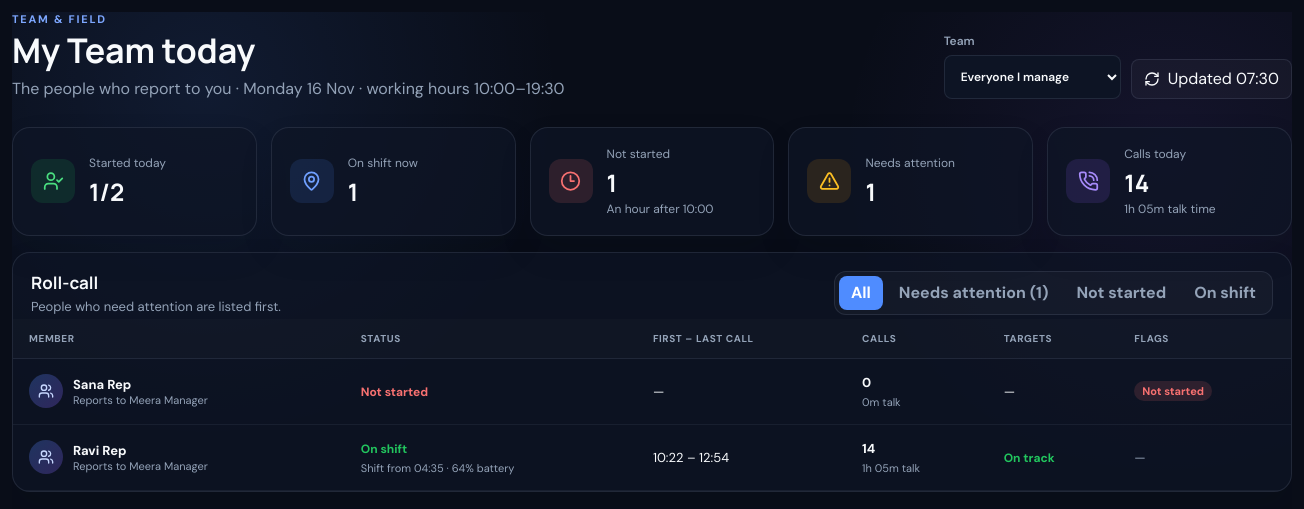
My Team today › filters to people needing attention
Expected: the text "Ravi Rep" is shown, left=73, top=442, right=126, bottom=459
Click the tab "Needs attention (1)" at [974, 293], box left=887, top=276, right=1060, bottom=310
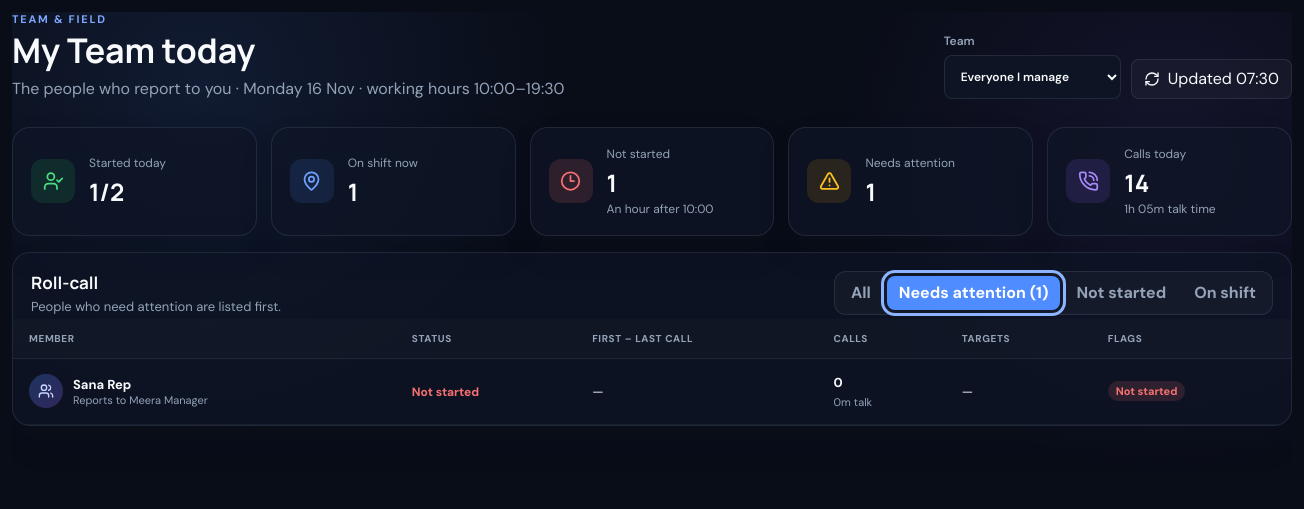
Expected: the text "Sana Rep" is shown, left=73, top=376, right=131, bottom=393
Now the text "Ravi Rep" is gone
